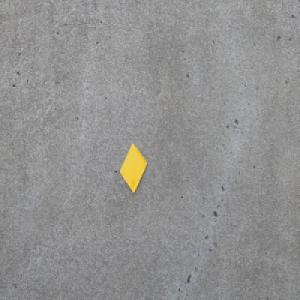PlasticPart: (119, 142, 147, 194)
